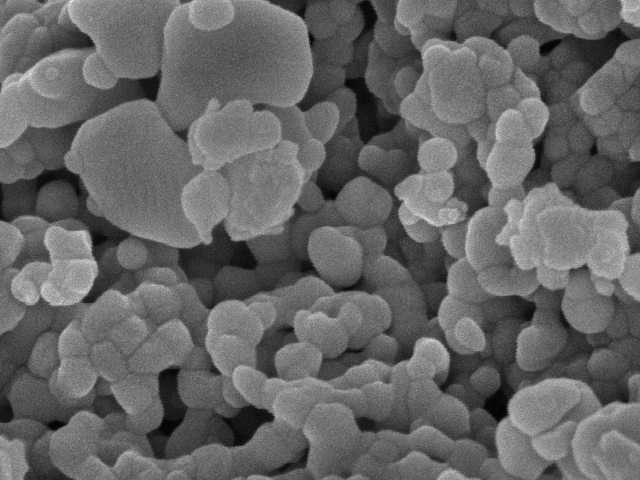nano: (43, 65, 60, 81)
